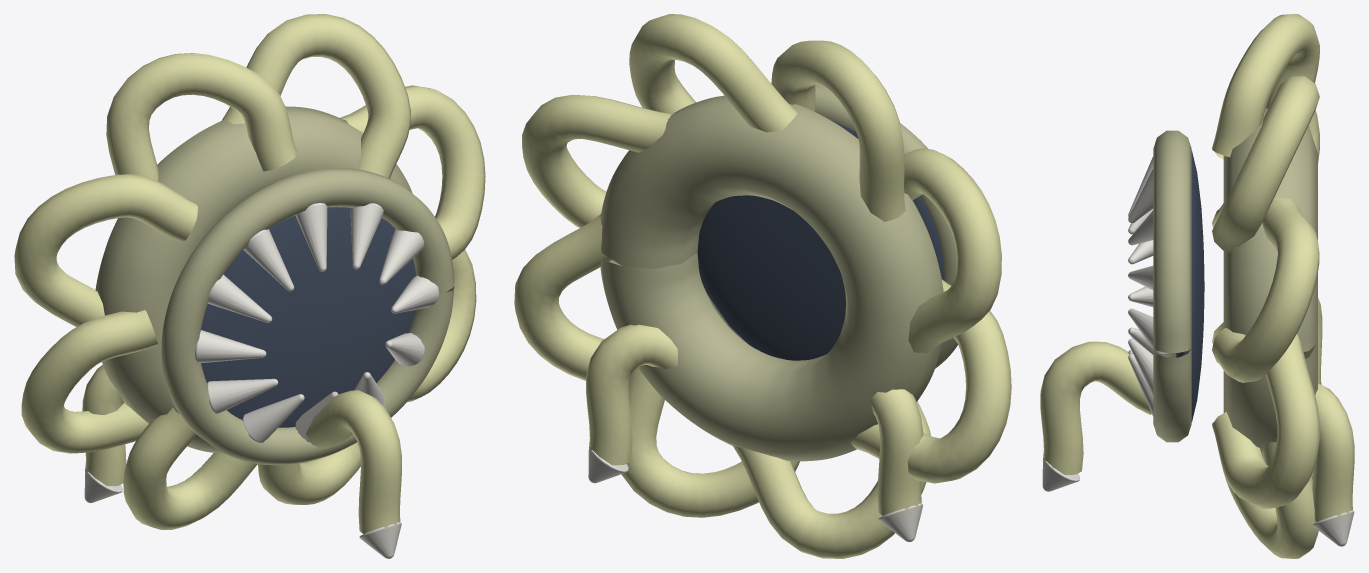
The model's file is bio_spiral_maw_04_near.glb.
3 views of the same model, side by side, from view 1: azimuth 30°, elevation 25°; view 2: azimuth 150°, elevation 25°; view 3: azimuth 270°, elevation 25° (orthographic). The views are drawn at different scales.
Visible parts, largest first — view 1: Recessed mouth cavity, Raised oral lip, Rear muscular torus, Inward tooth, Coiling oral limb.002, Coiling oral limb.003, Coiling oral limb.001, Coiling oral limb.004, Coiling oral limb.005, Coiling oral limb, Crooked support.002, Coiling oral limb.006 (+4 smaller); view 2: Rear muscular torus, Recessed mouth cavity, Coiling oral limb.003, Coiling oral limb.002, Coiling oral limb.001, Coiling oral limb, Coiling oral limb.004, Coiling oral limb.007, Coiling oral limb.005, Coiling oral limb.006, Crooked support, Crooked support.001 (+3 smaller); view 3: Raised oral lip, Rear muscular torus, Coiling oral limb.007, Coiling oral limb, Coiling oral limb.001, Coiling oral limb.002, Crooked support.002, Inward tooth, Crooked support, Coiling oral limb.006, Recessed mouth cavity, Contact spur (+1 smaller).
Part boxes in pixels (bbox=[...]): Recessed mouth cavity: bbox=[201, 207, 415, 427]; Raised oral lip: bbox=[161, 168, 454, 465]; Rear muscular torus: bbox=[95, 106, 412, 453]; Inward tooth: bbox=[195, 203, 439, 442]; Coiling oral limb.002: bbox=[106, 53, 297, 180]; Coiling oral limb.003: bbox=[14, 174, 197, 326]; Coiling oral limb.001: bbox=[222, 14, 410, 178]; Coiling oral limb.004: bbox=[21, 310, 157, 453]; Coiling oral limb.005: bbox=[123, 407, 257, 529]; Coiling oral limb: bbox=[340, 85, 485, 259]; Crooked support.002: bbox=[306, 390, 401, 534]; Coiling oral limb.006: bbox=[258, 442, 360, 504]; Rear muscular torus: bbox=[600, 95, 943, 461]; Recessed mouth cavity: bbox=[697, 120, 944, 360]; Coiling oral limb.003: bbox=[904, 148, 1001, 353]; Coiling oral limb.002: bbox=[771, 40, 905, 221]; Coiling oral limb.001: bbox=[629, 14, 797, 132]; Coiling oral limb: bbox=[522, 95, 673, 227]; Coiling oral limb.004: bbox=[850, 279, 1011, 483]; Coiling oral limb.007: bbox=[514, 214, 611, 380]; Coiling oral limb.005: bbox=[733, 401, 930, 558]; Coiling oral limb.006: bbox=[621, 368, 799, 517]; Crooked support: bbox=[586, 324, 677, 465]; Crooked support.001: bbox=[870, 389, 923, 515]; Raised oral lip: bbox=[1153, 130, 1191, 442]; Rear muscular torus: bbox=[1223, 108, 1317, 457]; Coiling oral limb.007: bbox=[1212, 334, 1319, 508]; Coiling oral limb: bbox=[1212, 197, 1319, 382]; Coiling oral limb.001: bbox=[1212, 76, 1319, 252]; Coiling oral limb.002: bbox=[1212, 14, 1319, 157]; Crooked support.002: bbox=[1040, 341, 1151, 474]; Inward tooth: bbox=[1128, 156, 1170, 416]; Crooked support: bbox=[1312, 383, 1354, 522]; Coiling oral limb.006: bbox=[1212, 422, 1318, 558]; Recessed mouth cavity: bbox=[1176, 151, 1204, 421]; Contact spur: bbox=[1313, 510, 1354, 546].
Bounding box in the file's own units: 2.42 × 2.42 × 1.47.
